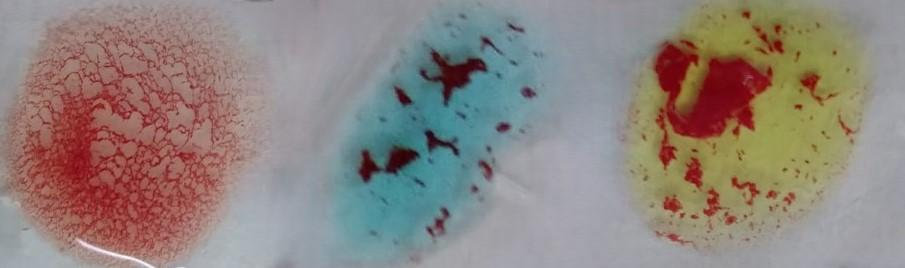A: (327, 0, 558, 268)
B: (626, 6, 853, 266)
D: (15, 2, 228, 268)
